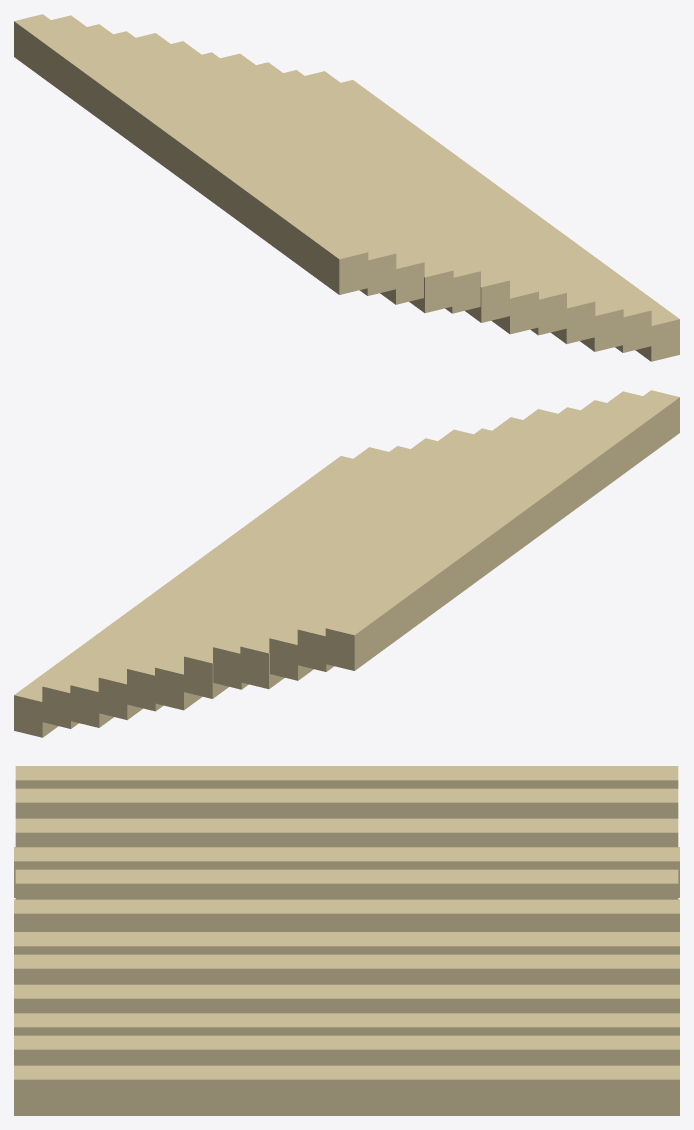
Rendered from Temple_StairsV1.fbx.
3 renders of one model, top to bottom at view 1: azimuth 30°, elevation 25°; view 2: azimuth 150°, elevation 25°; view 3: azimuth 270°, elevation 25°, orthographic.
Parts seen in each view (by area): view 1: Cube.007; view 2: Cube.007; view 3: Cube.007.
Part boxes in pixels (<box>): Cube.007: <box>14,14,679,361</box>; Cube.007: <box>14,390,679,737</box>; Cube.007: <box>14,766,679,1115</box>.
Bounding box in the file's own units: 6 × 3 × 10.
